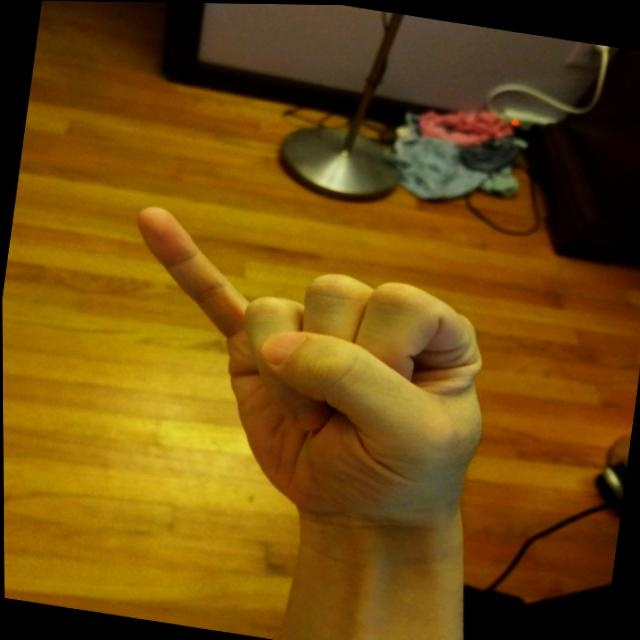I: (91, 196, 517, 546)
